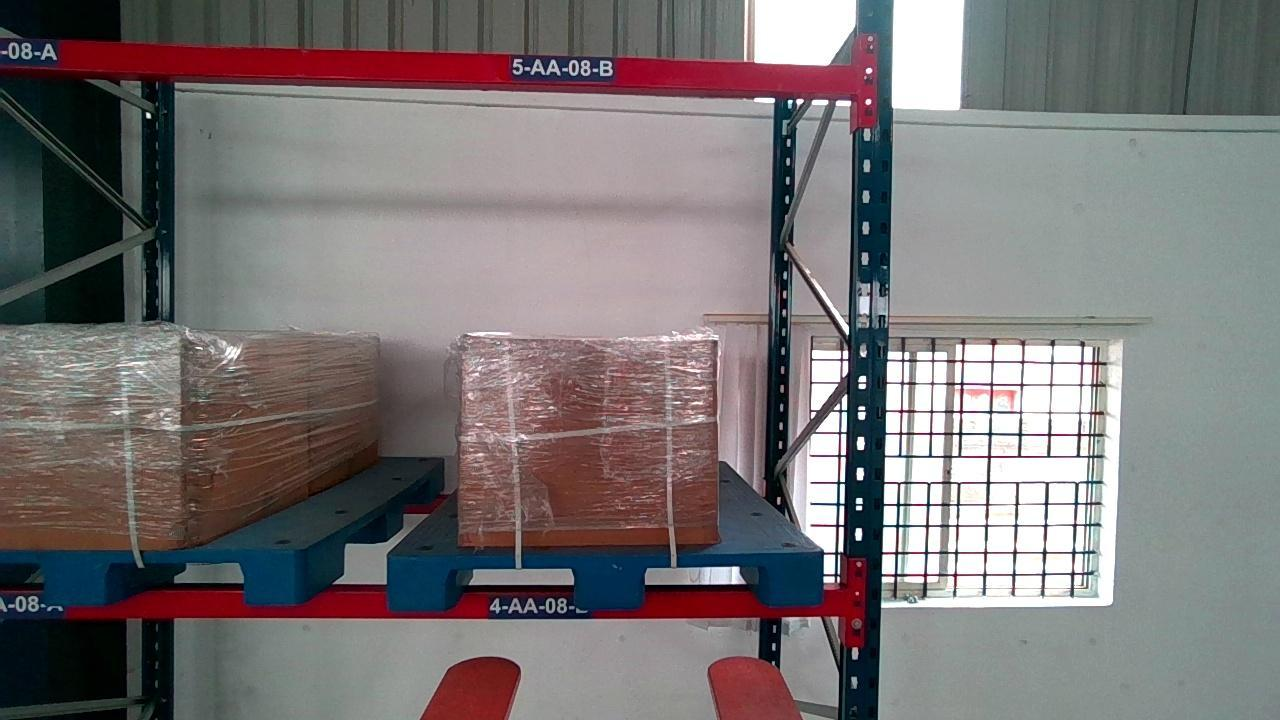h_rack: (2, 37, 864, 96), (2, 588, 853, 619)
small_pallet: (386, 551, 821, 612), (0, 547, 300, 598)
